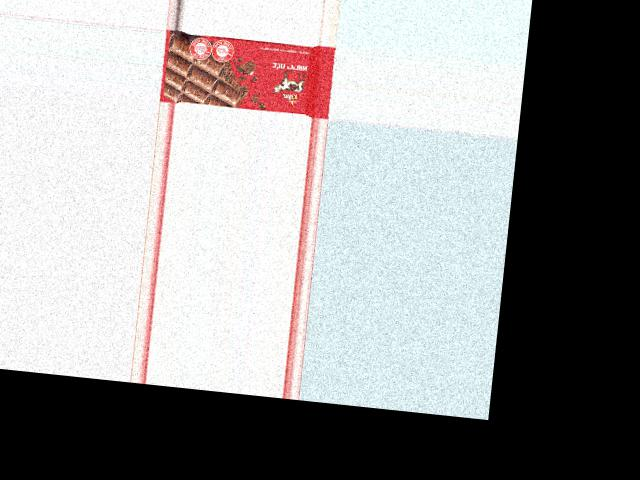chocolate: (161, 29, 337, 118)
